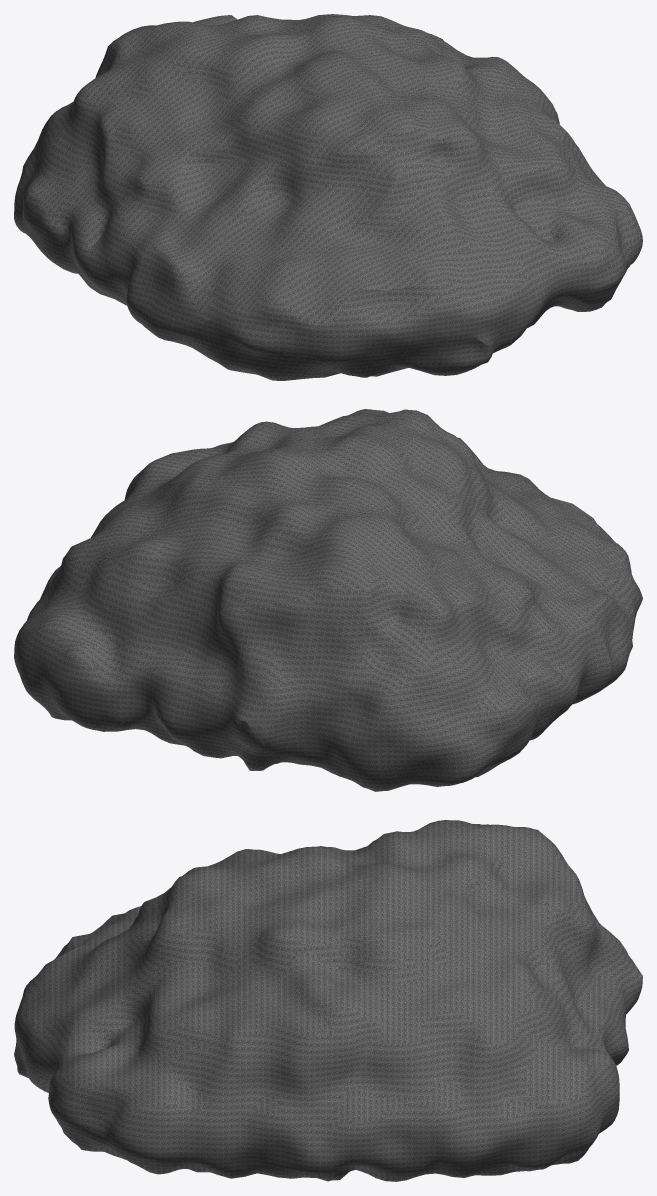
The model's file is Rock.fbx.
3 views of the same model, one above another, from view 1: azimuth 30°, elevation 25°; view 2: azimuth 150°, elevation 25°; view 3: azimuth 270°, elevation 25° (orthographic). The views are drawn at different scales.
Parts seen in each view (by area): view 1: Retopo_Mball.002 Remeshed; view 2: Retopo_Mball.002 Remeshed; view 3: Retopo_Mball.002 Remeshed.
Part boxes in pixels (box(x1,y1,x2,y2)): Retopo_Mball.002 Remeshed: box(14, 14, 642, 380); Retopo_Mball.002 Remeshed: box(14, 409, 642, 791); Retopo_Mball.002 Remeshed: box(14, 820, 642, 1181).
Bounding box in the file's own units: 1500 × 699 × 1648.
1 material, 1 textured.
